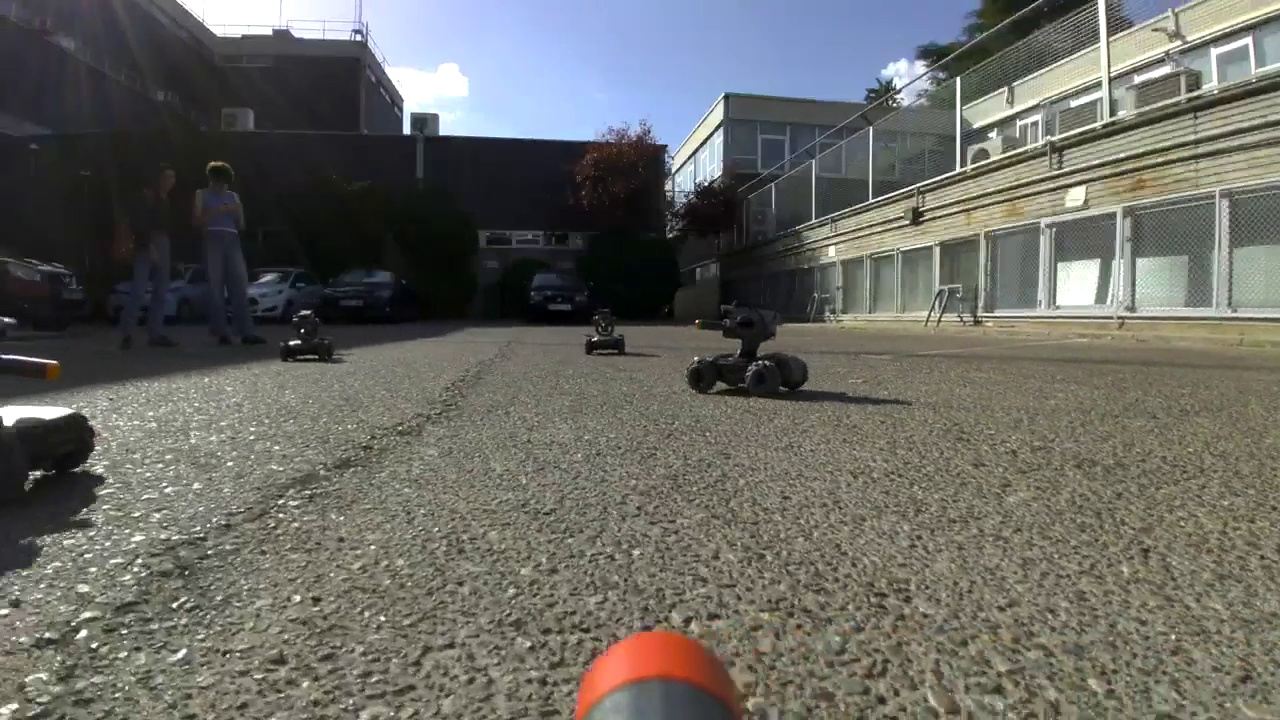robot: (1, 311, 97, 501), (684, 297, 810, 398), (282, 307, 335, 360), (584, 306, 628, 352)
